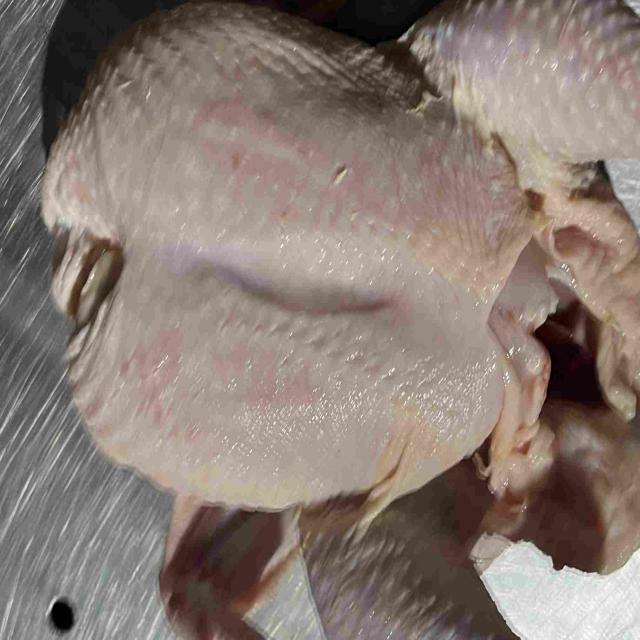breast: (51, 2, 561, 497)
leg: (383, 0, 640, 186), (297, 502, 546, 640)
wing: (154, 488, 305, 640)
